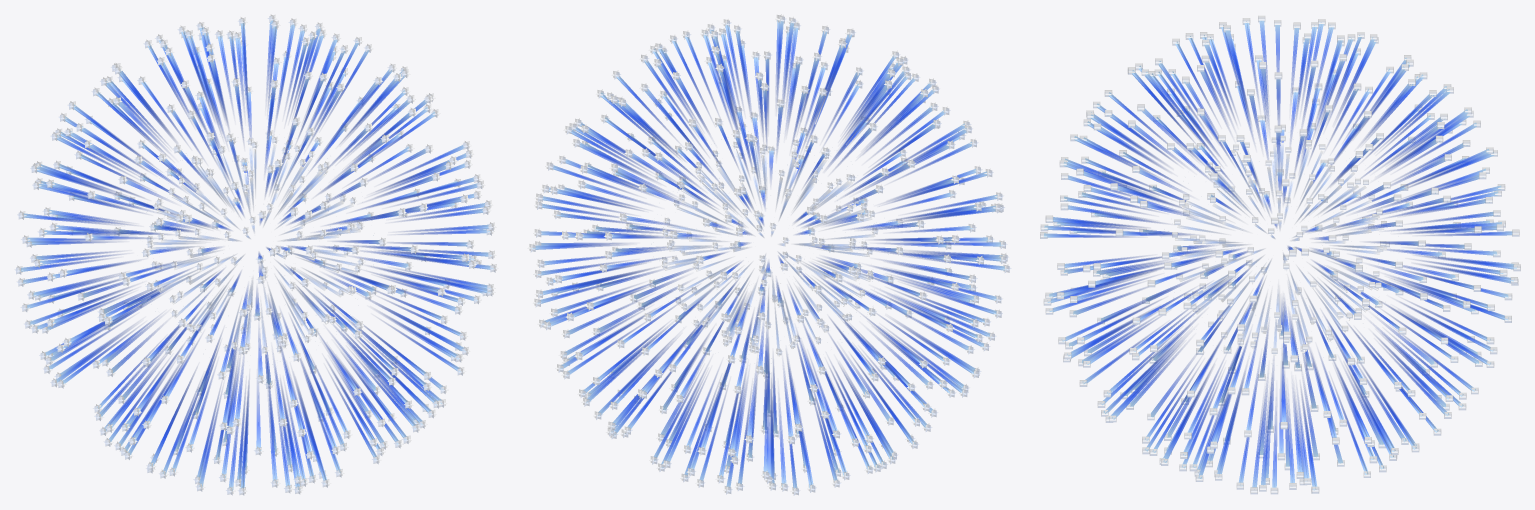
Rendered from fw_peony_blue_silver_a.glb.
The picture shows the model from 3 angles, left to right: view 1: azimuth 30°, elevation 25°; view 2: azimuth 150°, elevation 25°; view 3: azimuth 270°, elevation 25°; orthographic projection.
Visible parts, largest first — view 1: spire; view 2: spire; view 3: spire.
Part boxes in pixels (x1,y1,x2,y2): spire: (14, 14, 498, 495); spire: (528, 14, 1011, 495); spire: (1040, 15, 1520, 494).
Size of the model in its own units: 20.27 by 20.22 by 20.26.
Materials: 3 (3 with a texture image).
